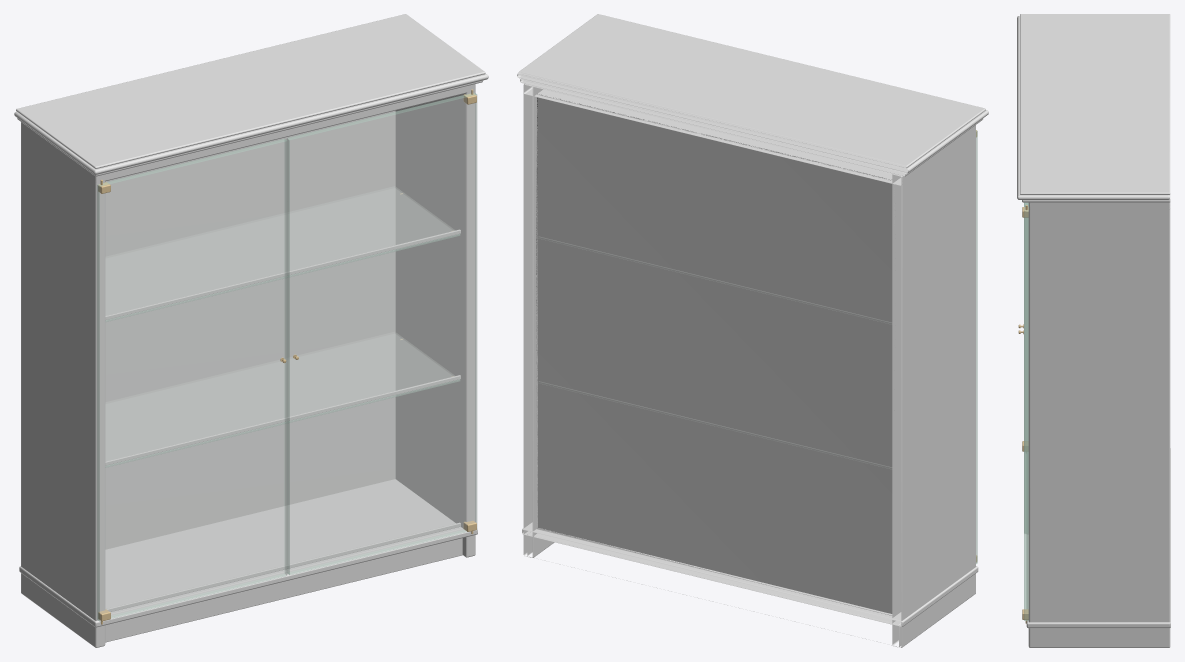
Rendered from cabinet.glb.
The picture shows the model from 3 angles, left to right: view 1: azimuth 30°, elevation 25°; view 2: azimuth 150°, elevation 25°; view 3: azimuth 270°, elevation 25°; orthographic projection. The views are drawn at different scales.
Parts seen in each view (by area): view 1: CabStatic, DoorLPane, DoorRPane, ShelfGlass; view 2: CabStatic, ShelfGlass, DoorLPane; view 3: CabStatic, DoorRPane, DoorLPane.
Boxes of the visible parts, x1,y1,x2,y2 form: CabStatic: (14, 14, 488, 647); DoorLPane: (97, 139, 287, 621); DoorRPane: (286, 93, 477, 574); ShelfGlass: (105, 187, 459, 467); CabStatic: (517, 14, 988, 647); ShelfGlass: (538, 237, 891, 469); DoorLPane: (976, 130, 977, 563); CabStatic: (1017, 14, 1170, 647); DoorRPane: (1024, 202, 1028, 620); DoorLPane: (1024, 203, 1028, 533).
Bounding box in the file's own units: 6.24 × 7.35 × 2.24.
